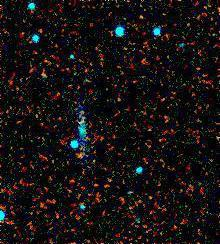star: (64, 141, 94, 171)
